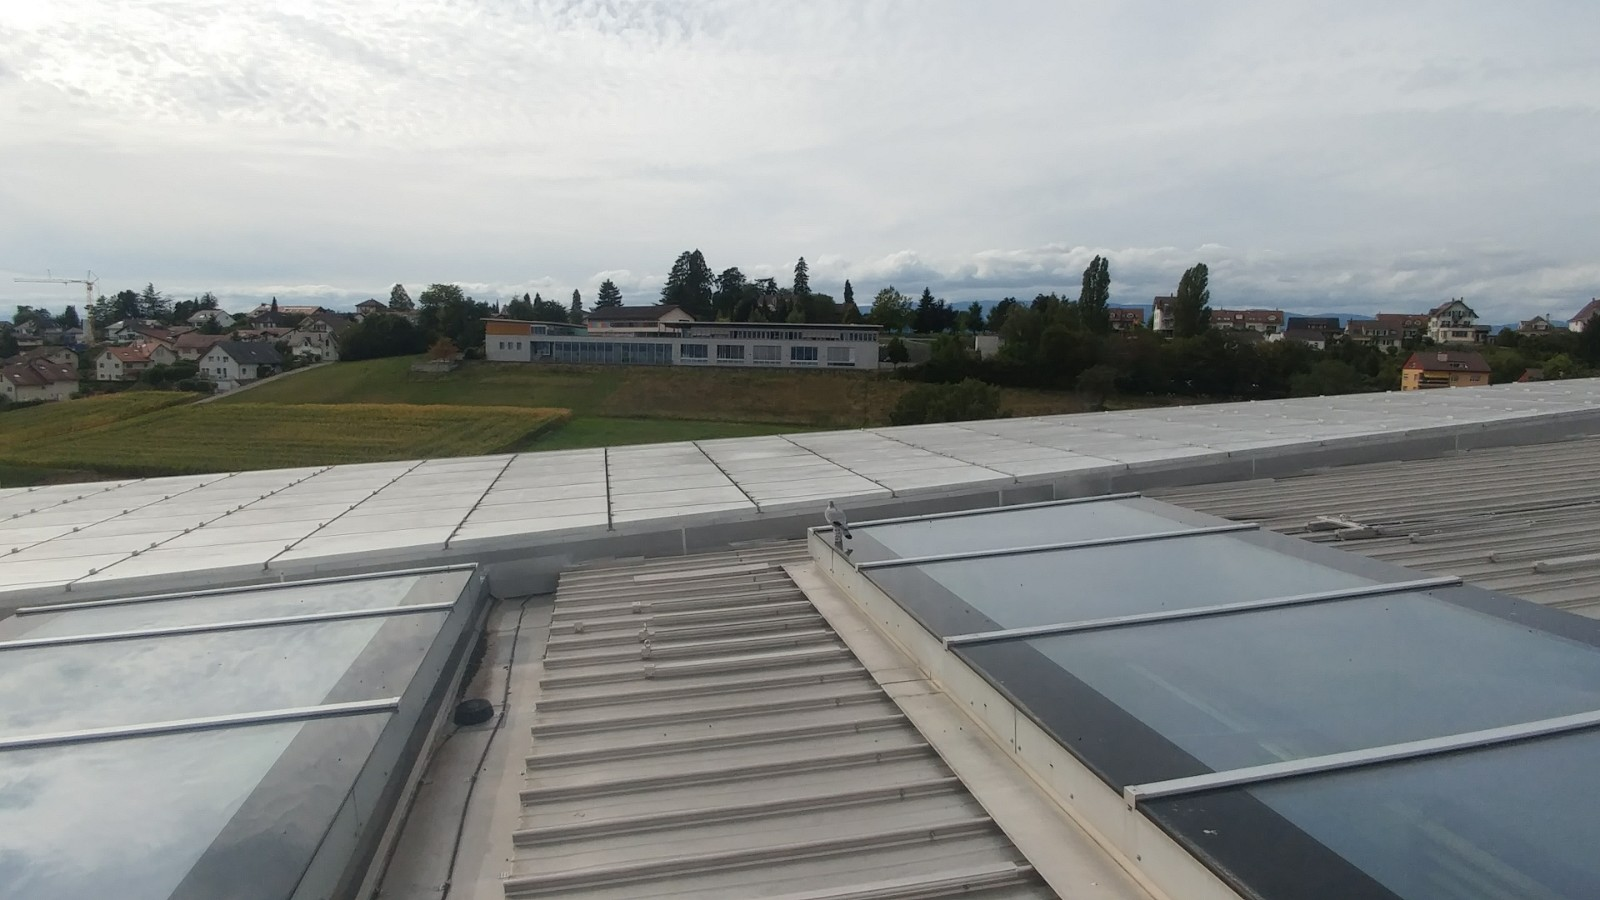Pigeon: (822, 500, 858, 551)
